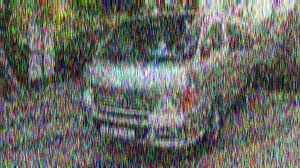van: (78, 11, 257, 144)
